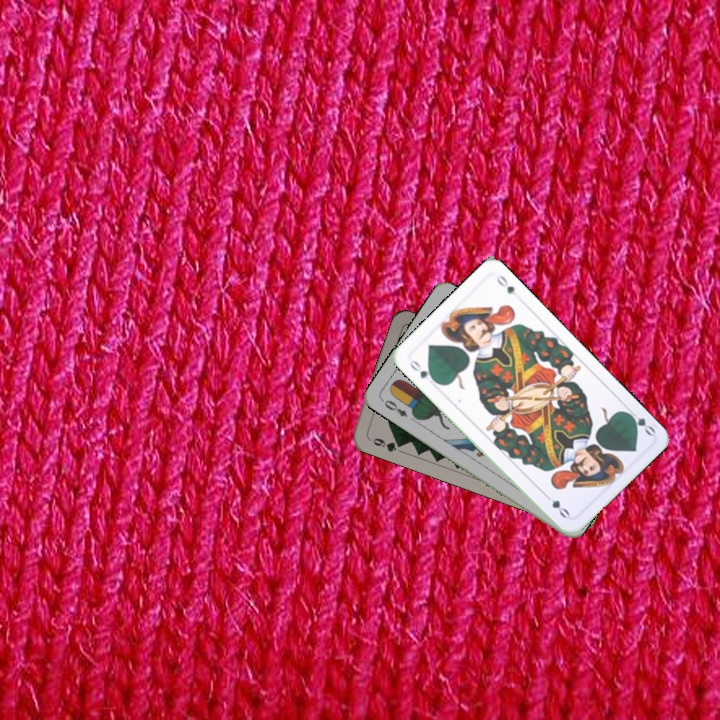EO: (377, 395, 410, 419)
G9: (364, 433, 405, 455)
GO: (622, 405, 658, 439), (405, 356, 439, 385)
